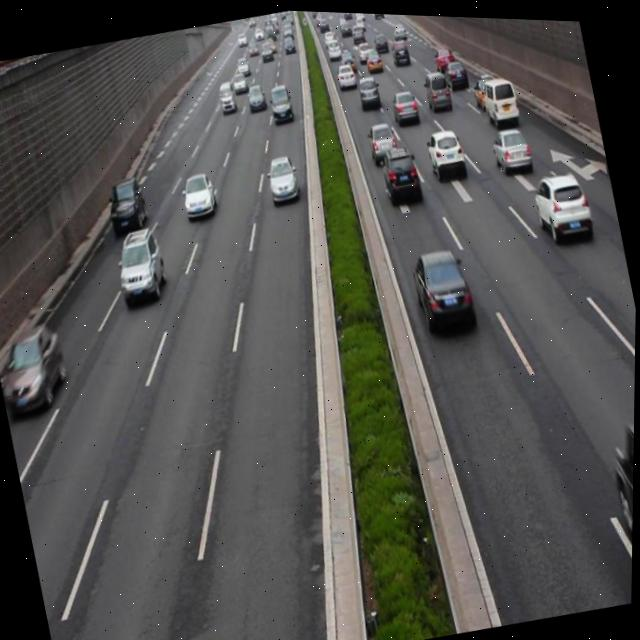car: (0, 319, 74, 415), (406, 238, 479, 334), (604, 412, 635, 596), (527, 162, 595, 245), (111, 221, 171, 305), (101, 170, 152, 236), (377, 140, 422, 204), (423, 122, 467, 176), (179, 165, 220, 219), (489, 120, 531, 169), (264, 150, 300, 201), (364, 116, 399, 162), (388, 82, 420, 126), (469, 68, 498, 107), (354, 68, 381, 109), (242, 77, 268, 114), (443, 51, 468, 88), (432, 41, 456, 72), (334, 57, 357, 89)
truck: (477, 68, 521, 123), (421, 64, 454, 111), (265, 80, 296, 124)
